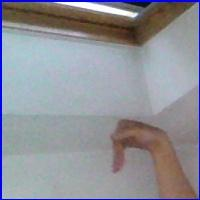del: (106, 119, 173, 176)
